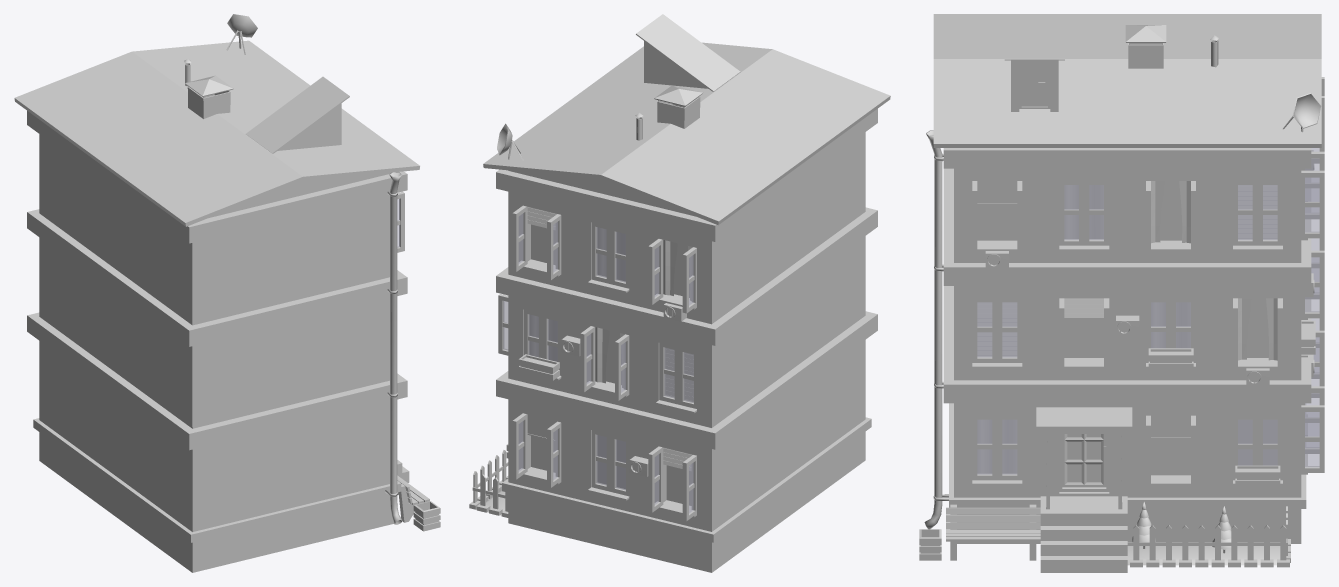
Rendered from Danya_buildings_2.fbx.
3 renders of one model, left to right at view 1: azimuth 30°, elevation 25°; view 2: azimuth 150°, elevation 25°; view 3: azimuth 270°, elevation 25°, orthographic. The views are drawn at different scales.
Visible parts, largest first — view 1: House, RoofAccess, DrainPipe, Chimney, Bench, TrashCan, Antenna; view 2: House, RoofAccess, WindowOpenCurtains.003, WindowOpenCurtains.002, WindowOpenRollerBlinds.002, WindowClosedCurtains.003, WindowClosedRollerBlinds.001, WindowOpenJalousie.001, WindowOpenJalousie.002, WindowClosedJalousie.002, WindowClosedCurtains.004, Chimney (+2 smaller); view 3: House, Entrance, Bench, WindowClosedJalousie, WindowClosedCurtains.001, DrainPipe, WindowClosedCurtains.002, WindowClosedJalousie.001, WindowClosedRollerBlinds, WindowClosedCurtains, RoofAccess, Door (+16 smaller).
Part boxes in pixels (x1=…): House: x1=14, y1=40, x2=419, y2=572; RoofAccess: x1=246, y1=76, x2=349, y2=153; DrainPipe: x1=385, y1=172, x2=402, y2=524; Chimney: x1=185, y1=75, x2=233, y2=118; Bench: x1=397, y1=475, x2=429, y2=522; TrashCan: x1=413, y1=501, x2=440, y2=531; Antenna: x1=226, y1=14, x2=257, y2=54; House: x1=483, y1=42, x2=890, y2=572; RoofAccess: x1=636, y1=14, x2=740, y2=91; WindowOpenCurtains.003: x1=580, y1=326, x2=629, y2=400; WindowOpenCurtains.002: x1=648, y1=239, x2=696, y2=313; WindowOpenRollerBlinds.002: x1=512, y1=413, x2=561, y2=487; WindowClosedCurtains.003: x1=588, y1=222, x2=629, y2=292; WindowClosedRollerBlinds.001: x1=588, y1=430, x2=629, y2=500; WindowOpenJalousie.001: x1=512, y1=205, x2=561, y2=280; WindowOpenJalousie.002: x1=648, y1=446, x2=696, y2=521; WindowClosedJalousie.002: x1=655, y1=342, x2=696, y2=413; WindowClosedCurtains.004: x1=523, y1=309, x2=561, y2=380; Chimney: x1=654, y1=85, x2=702, y2=128; House: x1=933, y1=14, x2=1321, y2=543; Entrance: x1=1036, y1=407, x2=1132, y2=572; Bench: x1=946, y1=504, x2=1040, y2=560; WindowClosedJalousie: x1=972, y1=298, x2=1022, y2=368; WindowClosedCurtains.001: x1=972, y1=415, x2=1022, y2=485; DrainPipe: x1=924, y1=130, x2=948, y2=529; WindowClosedCurtains.002: x1=1059, y1=181, x2=1109, y2=250; WindowClosedJalousie.001: x1=1233, y1=181, x2=1282, y2=250; WindowClosedRollerBlinds: x1=1233, y1=415, x2=1282, y2=485; WindowClosedCurtains: x1=1146, y1=298, x2=1195, y2=368; RoofAccess: x1=1004, y1=58, x2=1064, y2=111; Door: x1=1062, y1=434, x2=1106, y2=487.
Size of the model in its own units: 1739 by 2555 by 1985.
